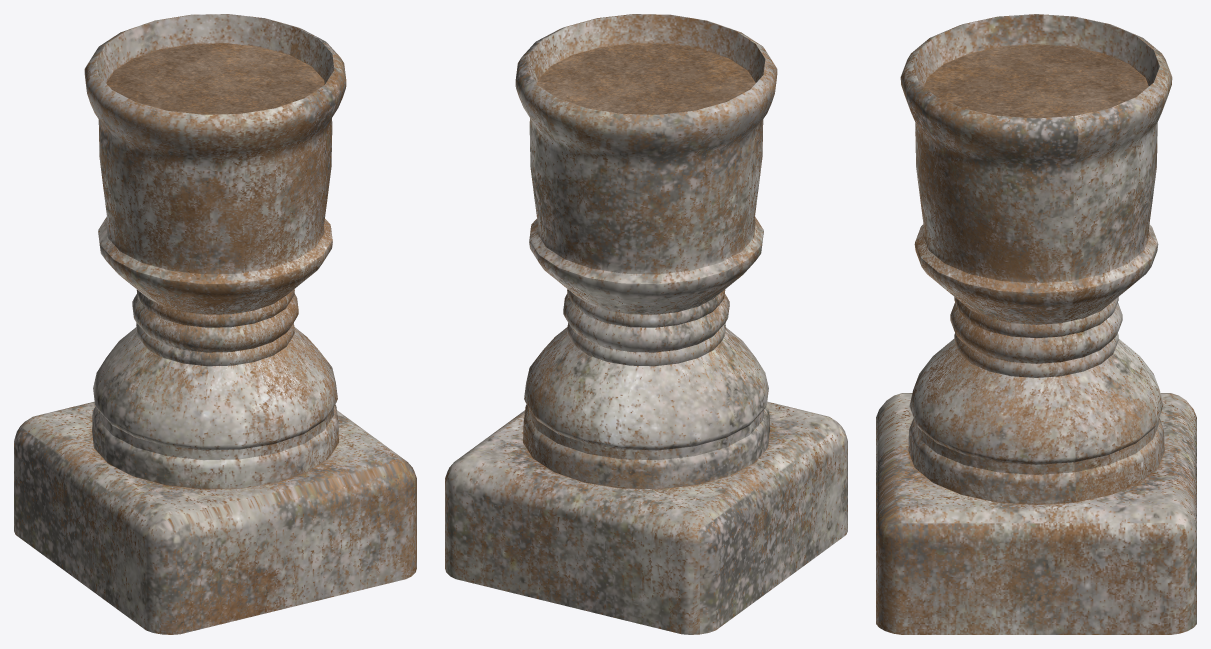
File: ceramic_plant_pot.glb
3 views of the same model, side by side, from view 1: azimuth 30°, elevation 25°; view 2: azimuth 150°, elevation 25°; view 3: azimuth 270°, elevation 25° (orthographic). The views are drawn at different scales.
Parts seen in each view (by area): view 1: pCylinder2; view 2: pCylinder2; view 3: pCylinder2.
Boxes of the visible parts, x1=… form: pCylinder2: x1=14, y1=14, x2=416, y2=634; pCylinder2: x1=445, y1=14, x2=847, y2=634; pCylinder2: x1=876, y1=14, x2=1196, y2=634.
Bounding box in the file's own units: 0.75 × 1.29 × 0.75.
Materials: 1 (1 with a texture image).
